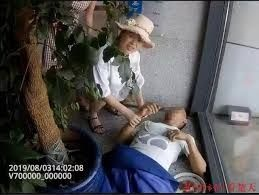falling: (102, 97, 212, 192)
